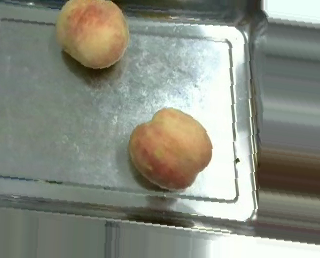Peach: (128, 107, 213, 190), (55, 0, 129, 69)
